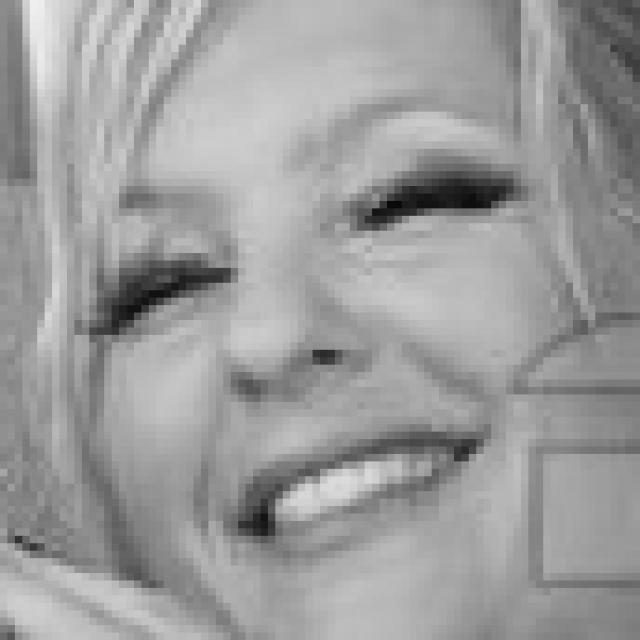real: (30, 0, 640, 640), (87, 145, 538, 351)
